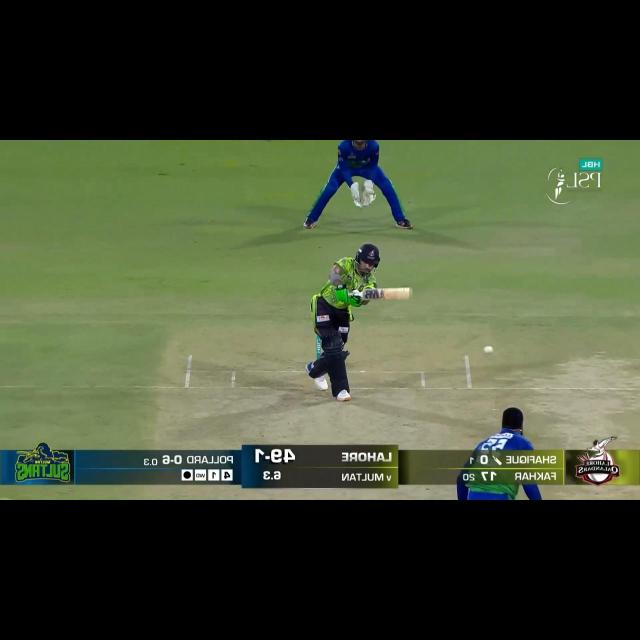bat: (358, 287, 414, 301)
toe: (402, 285, 414, 303)
